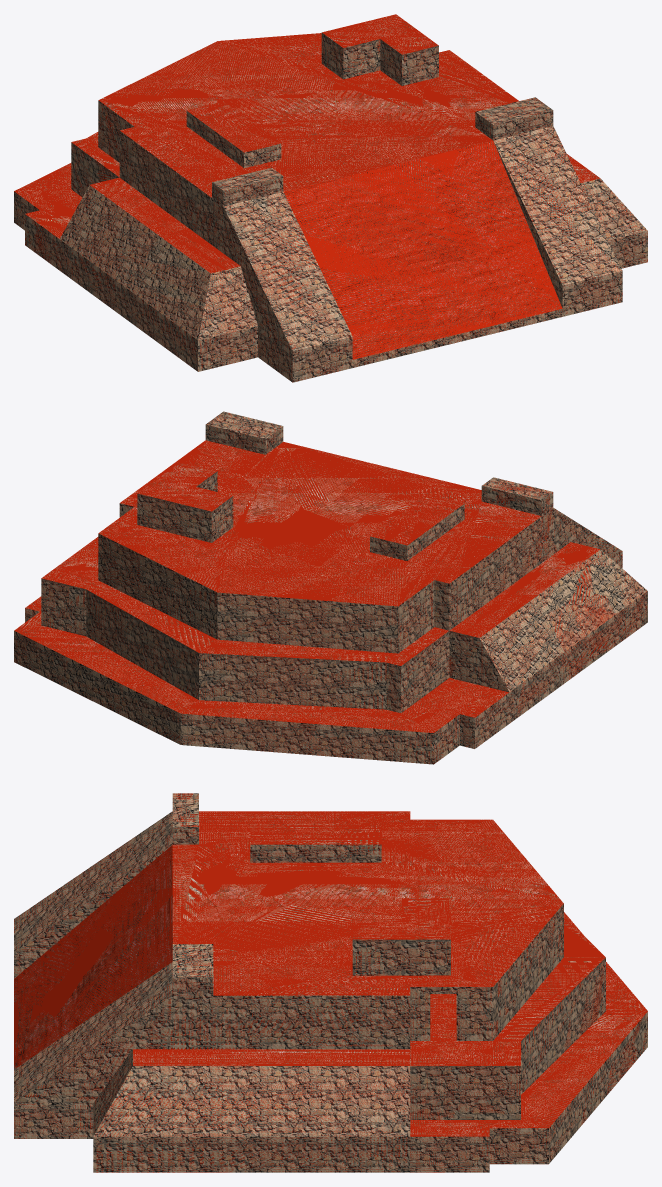
Rendered from EdificioJ.obj.
3 renders of one model, top to bottom at view 1: azimuth 30°, elevation 25°; view 2: azimuth 150°, elevation 25°; view 3: azimuth 270°, elevation 25°, orthographic. The views are drawn at different scales.
Visible parts, largest first — view 1: Mesh1 Model; view 2: Mesh1 Model; view 3: Mesh1 Model.
Boxes of the visible parts, x1,y1,x2,y2 form: Mesh1 Model: [14, 14, 647, 382]; Mesh1 Model: [14, 411, 647, 764]; Mesh1 Model: [14, 793, 647, 1172].
Size of the model in its own units: 30 by 10 by 32.
